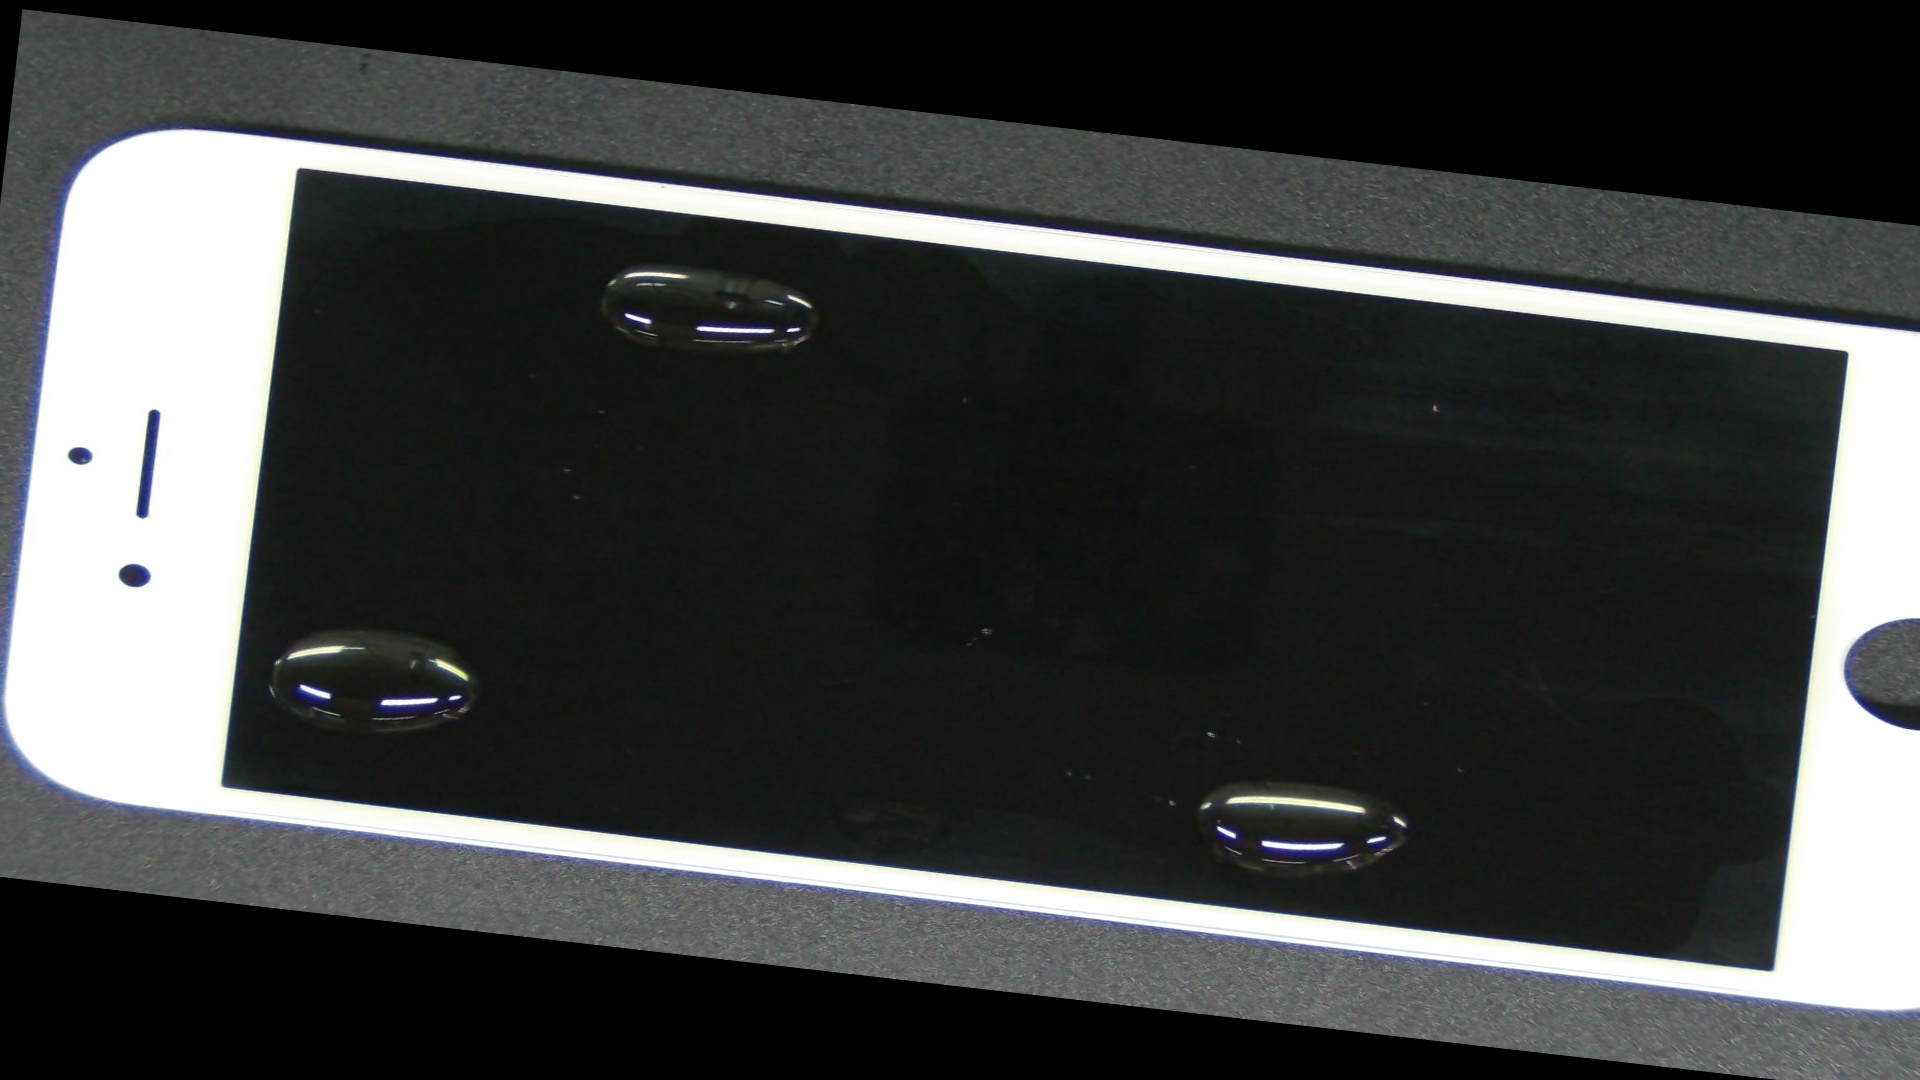oil: (605, 396, 1920, 1080), (140, 319, 636, 942), (330, 137, 1022, 393)
